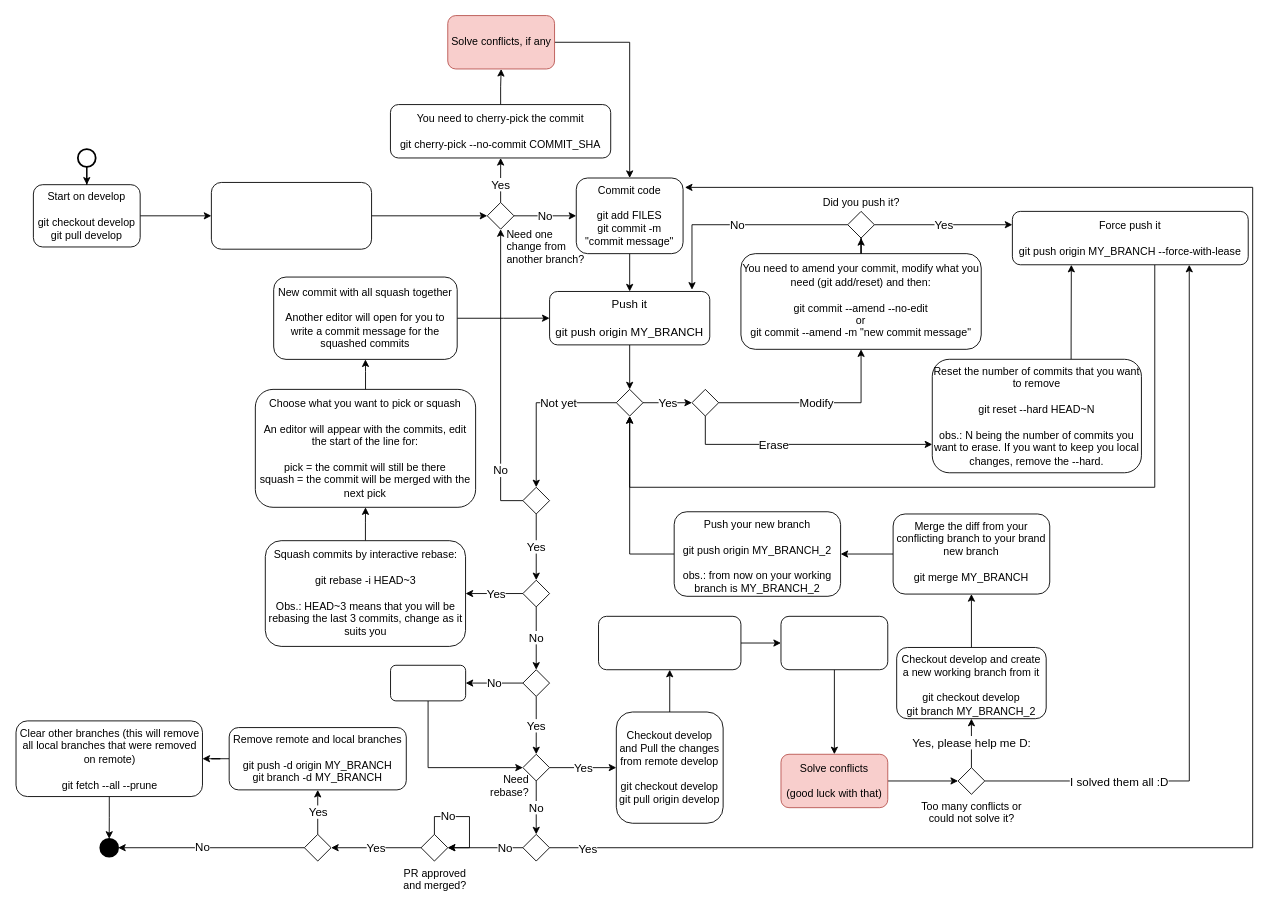
The diagram is 1275 pixels wide and 921 high, and some of its shapes have lost their labels. Here are the shapes that lost their labels. From the top down, the centre of each, then its label:
At (291,215): "Create your working branch git branch MY_BRANCH git checkout MY_BRANCH".
At (629,402): "Did you commit something wrong?".
At (705,402): "Do you want to modify or erase a commit?".
At (536,500): "Done implementing bugs?".
At (536,593): "Squash commits?".
At (669,642): "Go back to your branch git checkout MY_BRANCH".
At (834,642): "Rebase with develop git rebase develop".
At (428,682): "Open PR".
At (536,682): "PR already open?".
At (109,847): "You are done".
At (317,847): "Do you want to do some cleanup?".
At (536,847): "Need review?".
